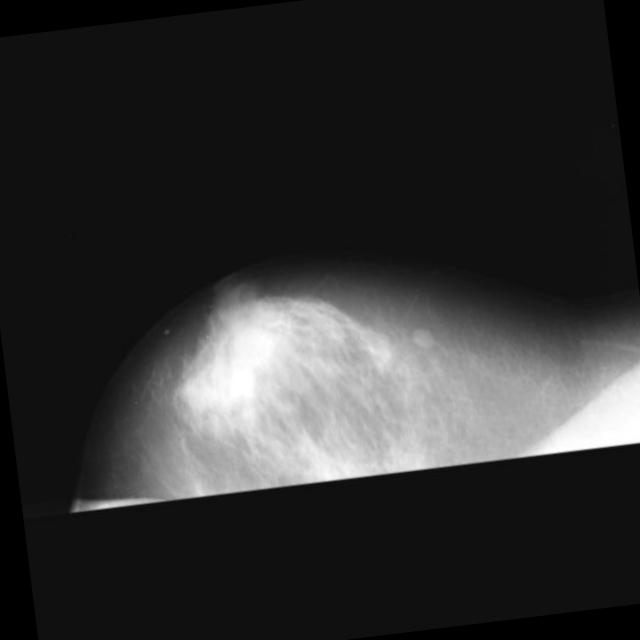ASYM: (322, 452, 362, 492)
